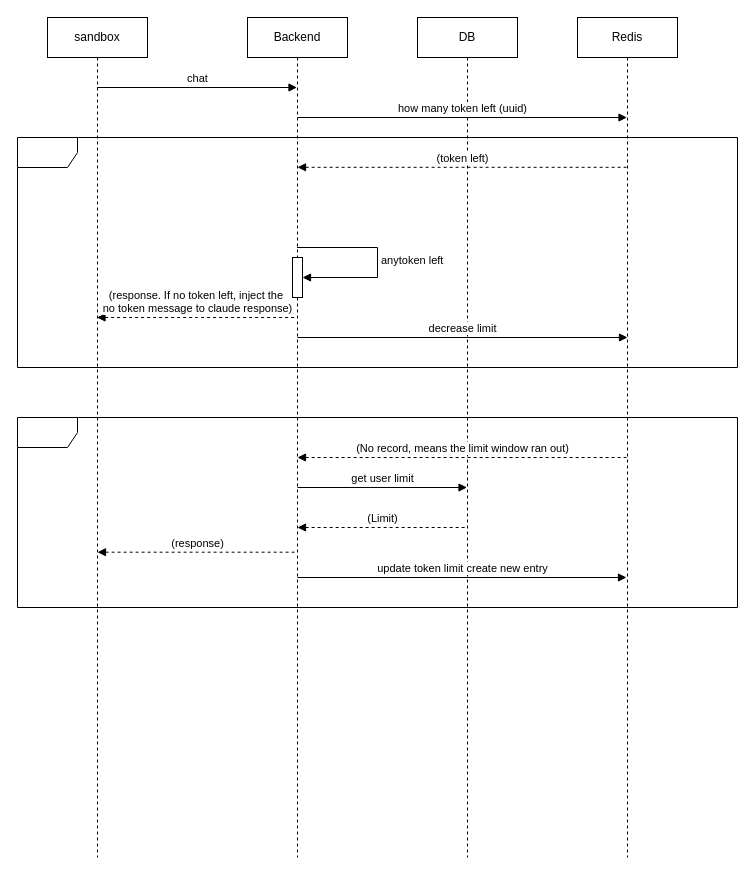
The diagram is 755 pixels wide and 875 high, and some of its shapes have lost their labels. Each missing label, with the centre of its shape:
"normal" belongs at point 377,252.
"time window run out" belongs at point 377,512.
